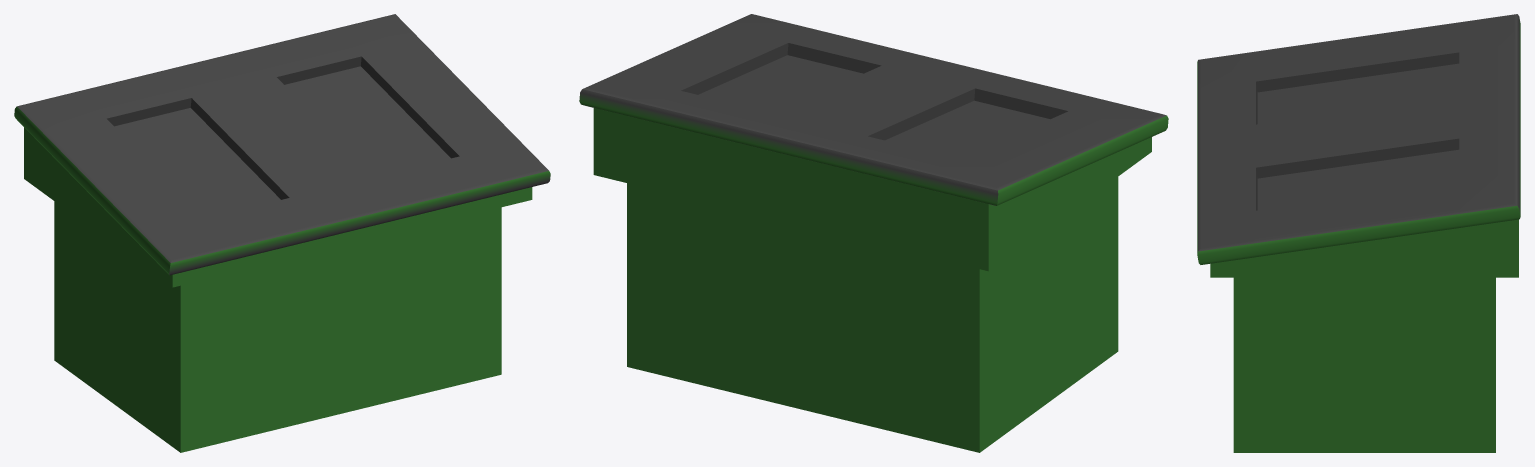
Rendered from GarbageBin_01.fbx.
3 views of the same model, side by side, from view 1: azimuth 30°, elevation 25°; view 2: azimuth 150°, elevation 25°; view 3: azimuth 270°, elevation 25° (orthographic). The views are drawn at different scales.
Visible parts, largest first — view 1: pCube156; view 2: pCube156; view 3: pCube156.
Boxes of the visible parts, bbox=[...] form: pCube156: bbox=[14, 14, 550, 452]; pCube156: bbox=[579, 14, 1168, 452]; pCube156: bbox=[1197, 14, 1520, 452].
Size of the model in its own units: 1.41 by 0.8962 by 0.997.
